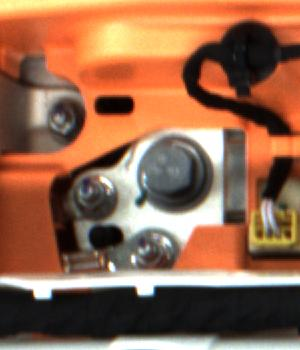nut_b: (125, 129, 214, 221)
screw_s: (128, 234, 175, 269), (70, 174, 109, 213), (42, 105, 77, 141)
